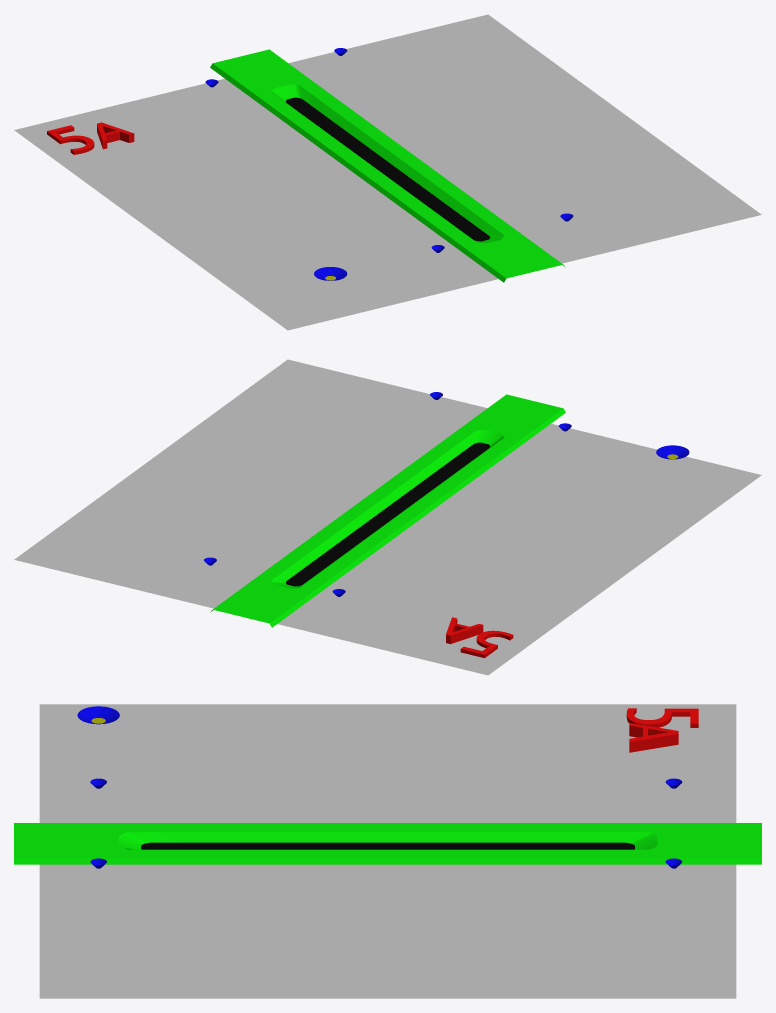
Rendered from TubeTextureHigh.fbx.
3 views of the same model, one above another, from view 1: azimuth 30°, elevation 25°; view 2: azimuth 150°, elevation 25°; view 3: azimuth 270°, elevation 25° (orthographic). The views are drawn at different scales.
Parts seen in each view (by area): view 1: pPlane1, Dip_Outter, DIp_Inner, Shape_5, Letter_A; view 2: pPlane1, Dip_Outter, DIp_Inner, Shape_5, Letter_A; view 3: pPlane1, Dip_Outter, DIp_Inner, Letter_A, Shape_5, Hole_Outter.
Part boxes in pixels (bbox=[...]): pPlane1: bbox=[14, 14, 761, 330]; Dip_Outter: bbox=[210, 49, 565, 282]; DIp_Inner: bbox=[286, 97, 489, 241]; Shape_5: bbox=[47, 125, 94, 154]; Letter_A: bbox=[97, 122, 134, 149]; pPlane1: bbox=[14, 359, 761, 675]; Dip_Outter: bbox=[210, 394, 565, 627]; DIp_Inner: bbox=[286, 442, 489, 586]; Shape_5: bbox=[460, 630, 513, 658]; Letter_A: bbox=[446, 617, 483, 643]; pPlane1: bbox=[39, 704, 736, 998]; Dip_Outter: bbox=[14, 823, 761, 864]; DIp_Inner: bbox=[141, 842, 634, 849]; Letter_A: bbox=[629, 723, 678, 752]; Shape_5: bbox=[626, 708, 698, 727]; Hole_Outter: bbox=[77, 706, 119, 724].
Bounding box in the file's own units: 10 × 0.731 × 10.74.
